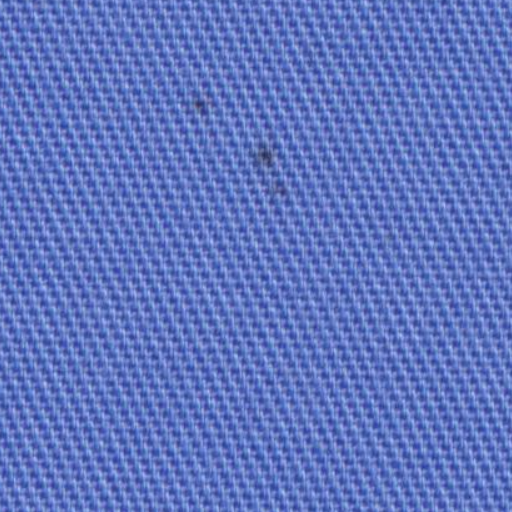WuZi: (242, 132, 308, 208), (177, 78, 228, 122)
